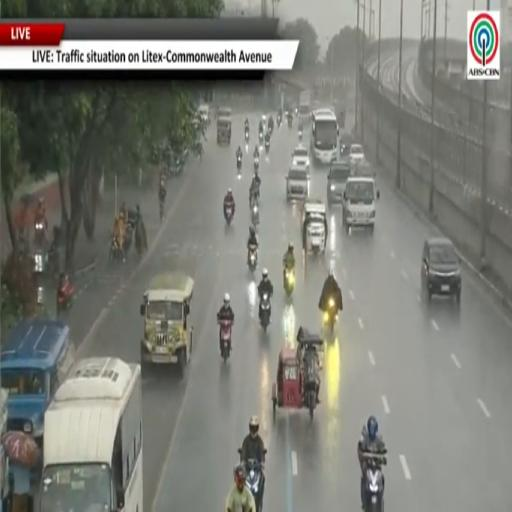bus: (39, 358, 142, 511), (310, 109, 339, 164)
car: (421, 237, 461, 302), (343, 176, 380, 232), (327, 160, 350, 204), (286, 165, 309, 201), (349, 157, 375, 178), (292, 146, 309, 168), (349, 143, 365, 162), (198, 104, 209, 124), (340, 138, 350, 159)
jeepney: (140, 272, 194, 375), (302, 200, 326, 253), (0, 444, 13, 510), (217, 107, 232, 143)
motorcycle: (363, 453, 386, 511), (244, 459, 264, 511), (303, 355, 318, 420), (246, 459, 263, 511), (219, 320, 232, 362), (57, 280, 74, 312), (323, 297, 337, 333), (259, 293, 270, 332), (33, 250, 48, 274), (110, 237, 124, 262), (34, 221, 46, 247), (123, 222, 133, 253), (284, 268, 294, 297), (248, 246, 257, 271), (224, 204, 234, 226), (250, 186, 259, 209), (252, 204, 259, 229), (159, 199, 164, 222), (237, 155, 241, 170), (287, 115, 292, 127), (245, 127, 249, 141), (254, 156, 258, 170), (268, 124, 273, 135), (265, 140, 269, 153), (277, 115, 281, 126), (298, 131, 302, 142), (259, 132, 263, 142)
tricycle: (272, 327, 323, 420)
truck: (298, 90, 312, 122)
